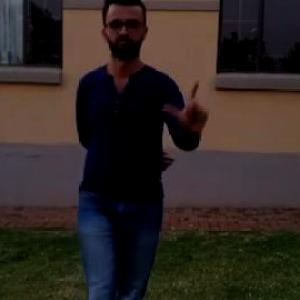land_hand: (164, 79, 216, 134)
